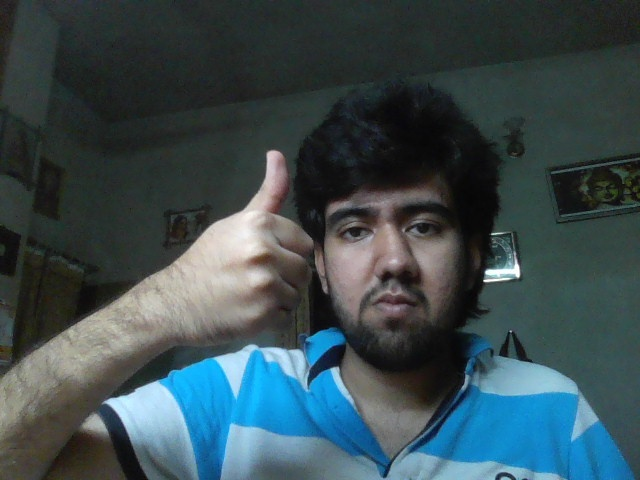Ok: (185, 150, 315, 348)
